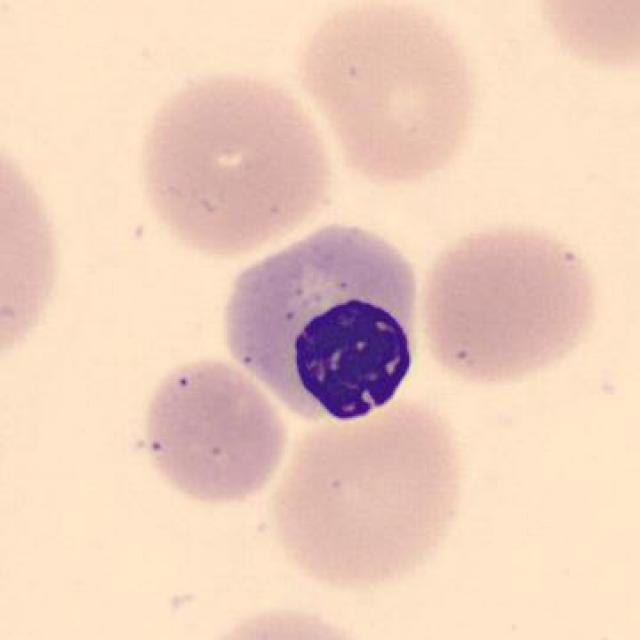RBC: (265, 386, 469, 594), (133, 67, 340, 254), (299, 3, 485, 187), (414, 219, 604, 388), (137, 354, 290, 508), (0, 136, 71, 360), (505, 2, 636, 78), (190, 604, 376, 640)
